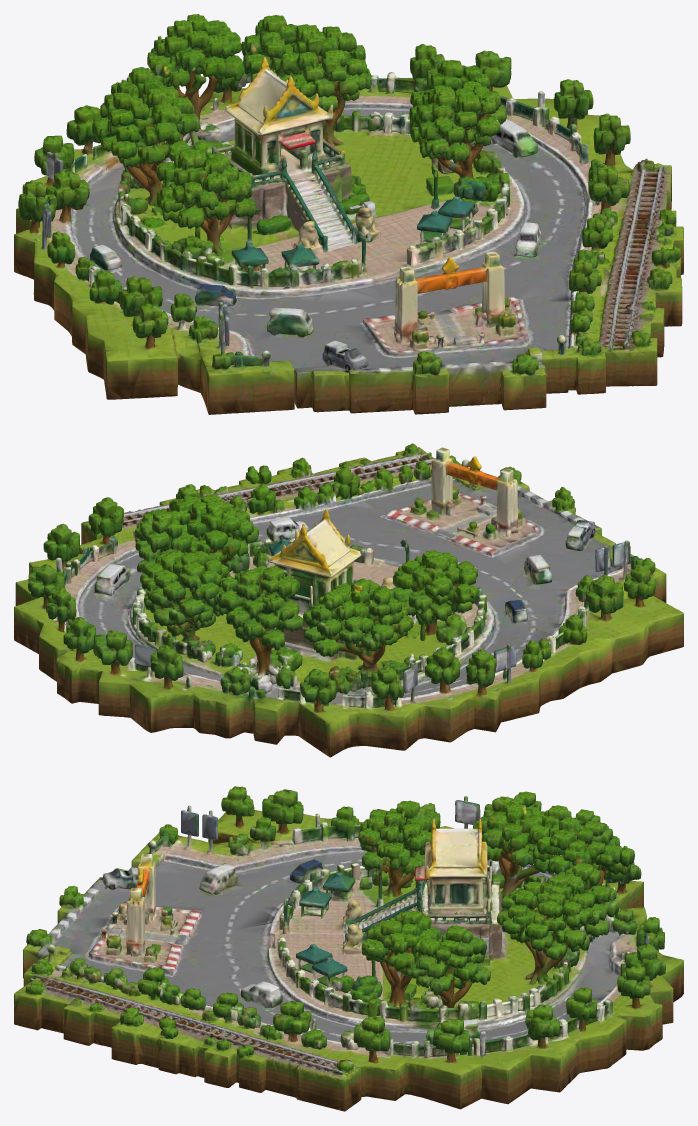
The model's file is sala-phra-kan.glb.
3 renders of one model, top to bottom at view 1: azimuth 30°, elevation 25°; view 2: azimuth 150°, elevation 25°; view 3: azimuth 270°, elevation 25°, orthographic. The views are drawn at different scales.
Size of the model in its own units: 1.83 by 0.4702 by 1.9.
Materials: 1 (1 with a texture image).
